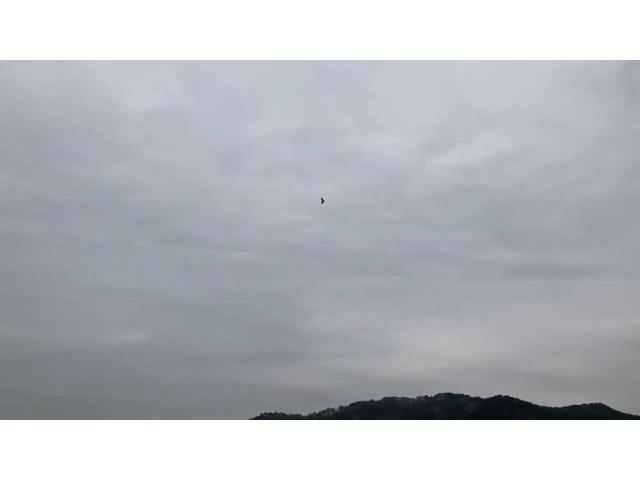Anti-Drone: (314, 196, 334, 209)
